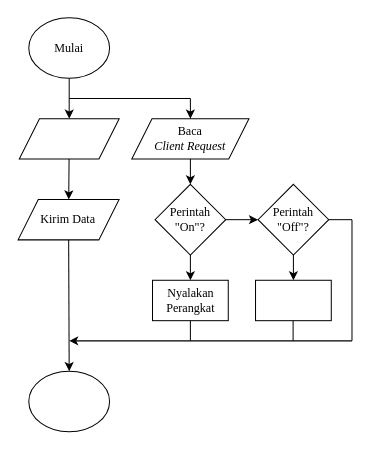
The diagram is 378 pixels wide and 449 high, and some of its shapes have lost their labels. Each missing label, with the box of its shape:
Baca Arus: (18, 118, 119, 159)
Matikan Perangkat: (255, 279, 331, 321)
Selesai: (28, 370, 110, 432)
